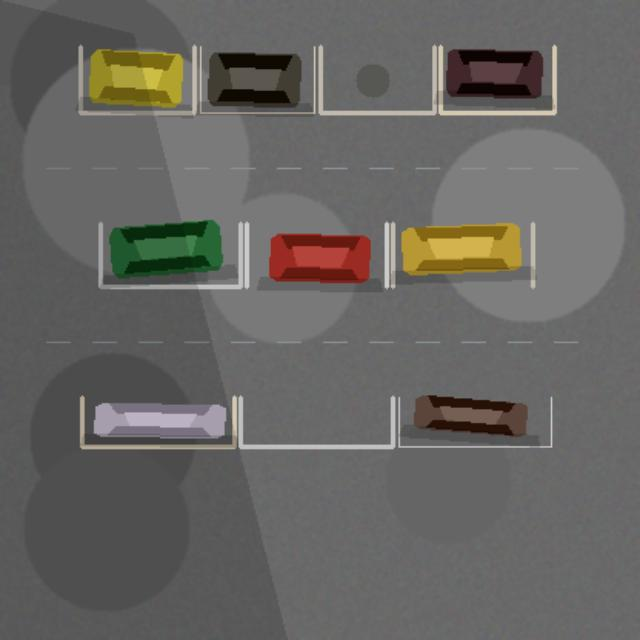space-empty: (320, 46, 434, 112), (240, 397, 392, 446)
space-occupied: (100, 223, 240, 286), (246, 223, 386, 286), (392, 223, 532, 286), (80, 46, 194, 112), (200, 46, 314, 112), (440, 46, 554, 112), (398, 397, 551, 446), (82, 397, 234, 446)
